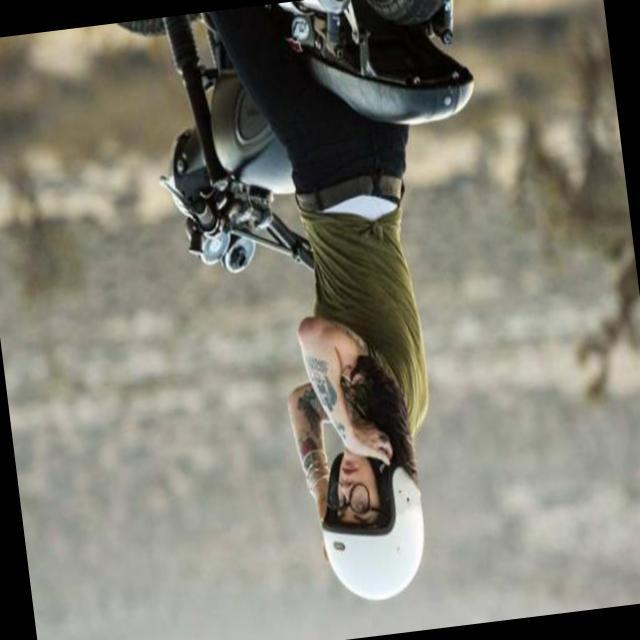Helm: (310, 431, 434, 606)
